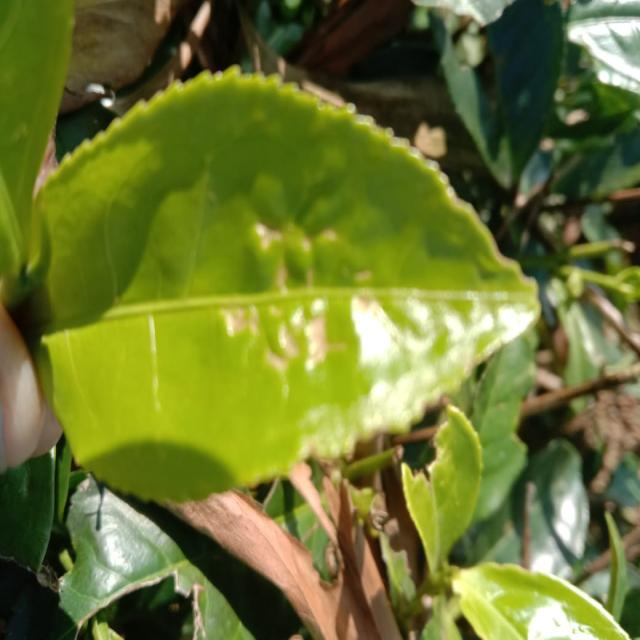Category B(2-4 days): (7, 53, 548, 536)
